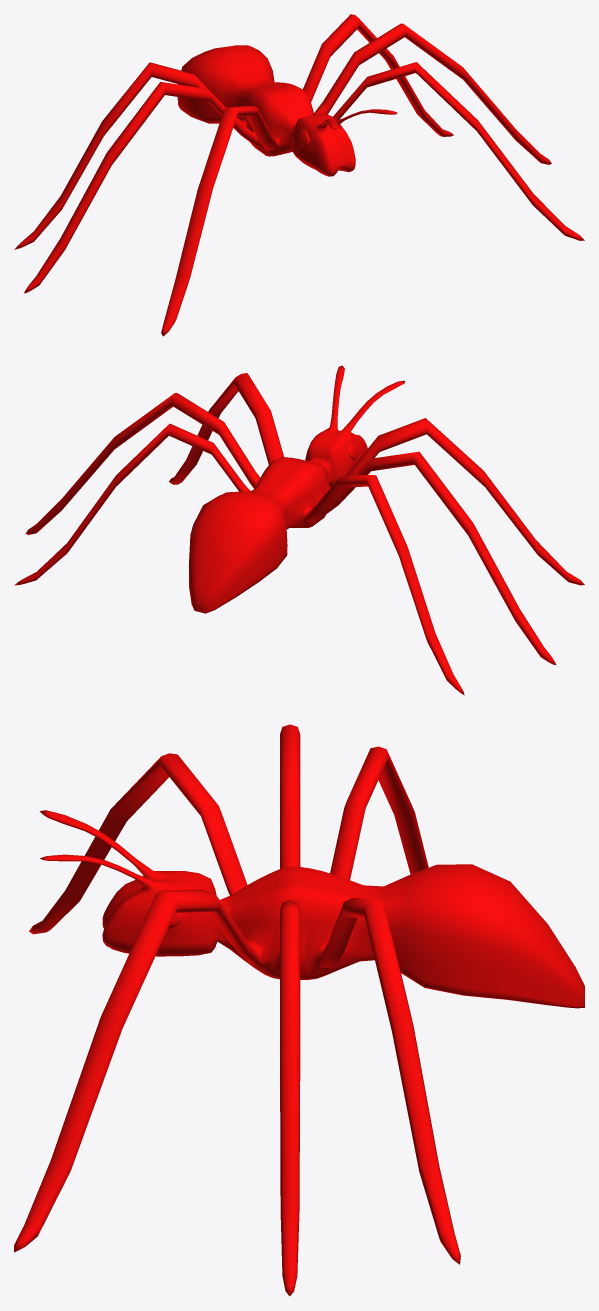
File: LowPolyAnt.FBX
3 renders of one model, top to bottom at view 1: azimuth 30°, elevation 25°; view 2: azimuth 150°, elevation 25°; view 3: azimuth 270°, elevation 25°, orthographic. The views are drawn at different scales.
Visible parts, largest first — view 1: Box002; view 2: Box002; view 3: Box002.
Boxes of the visible parts, x1,y1,x2,y2 form: Box002: [14, 14, 584, 336]; Box002: [14, 365, 584, 695]; Box002: [14, 724, 584, 1296].
Size of the model in its own units: 19.28 by 6.31 by 11.55.
